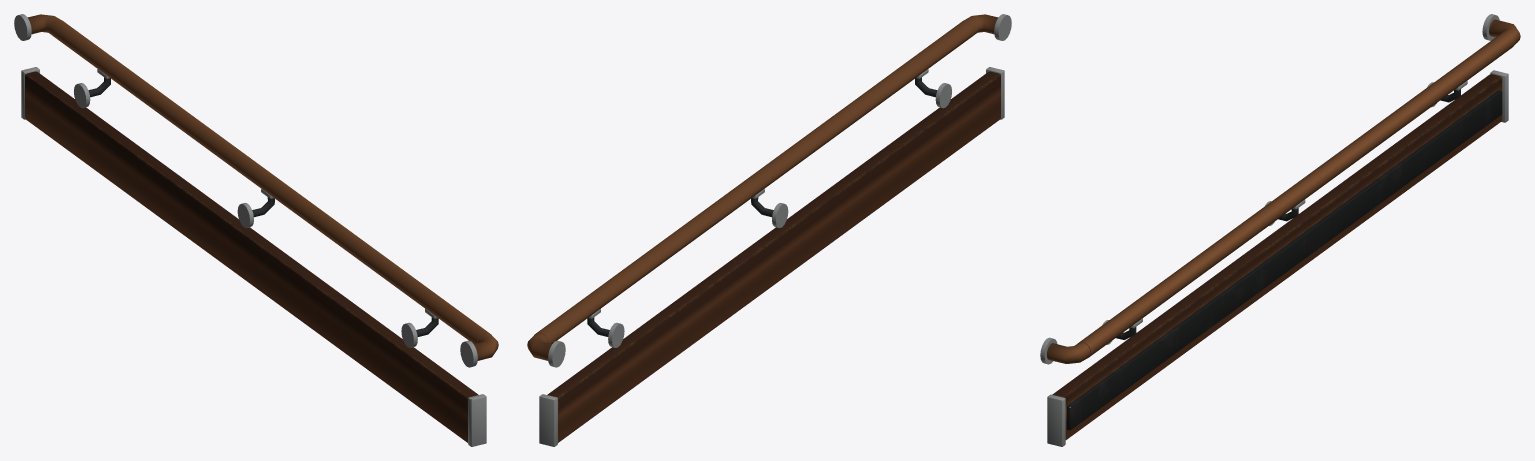
The model's file is CTCC_ENV_HandrailBay_Short.fbx.
The picture shows the model from 3 angles, left to right: view 1: azimuth 30°, elevation 25°; view 2: azimuth 150°, elevation 25°; view 3: azimuth 330°, elevation 25°; orthographic projection.
Parts seen in each view (by area): view 1: CTCC_ENV_HandrailBay_Short_LOD0; view 2: CTCC_ENV_HandrailBay_Short_LOD0; view 3: CTCC_ENV_HandrailBay_Short_LOD0.
Part boxes in pixels (x1,y1,x2,y2): CTCC_ENV_HandrailBay_Short_LOD0: [14, 14, 498, 446]; CTCC_ENV_HandrailBay_Short_LOD0: [527, 14, 1011, 446]; CTCC_ENV_HandrailBay_Short_LOD0: [1040, 14, 1520, 446].
Size of what is drawn, in the model's own units: 0.098 by 0.275 by 2.2.
